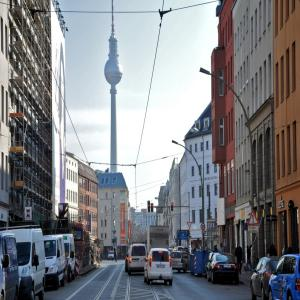Vehicle-registration-plate: (158, 265, 166, 270)
